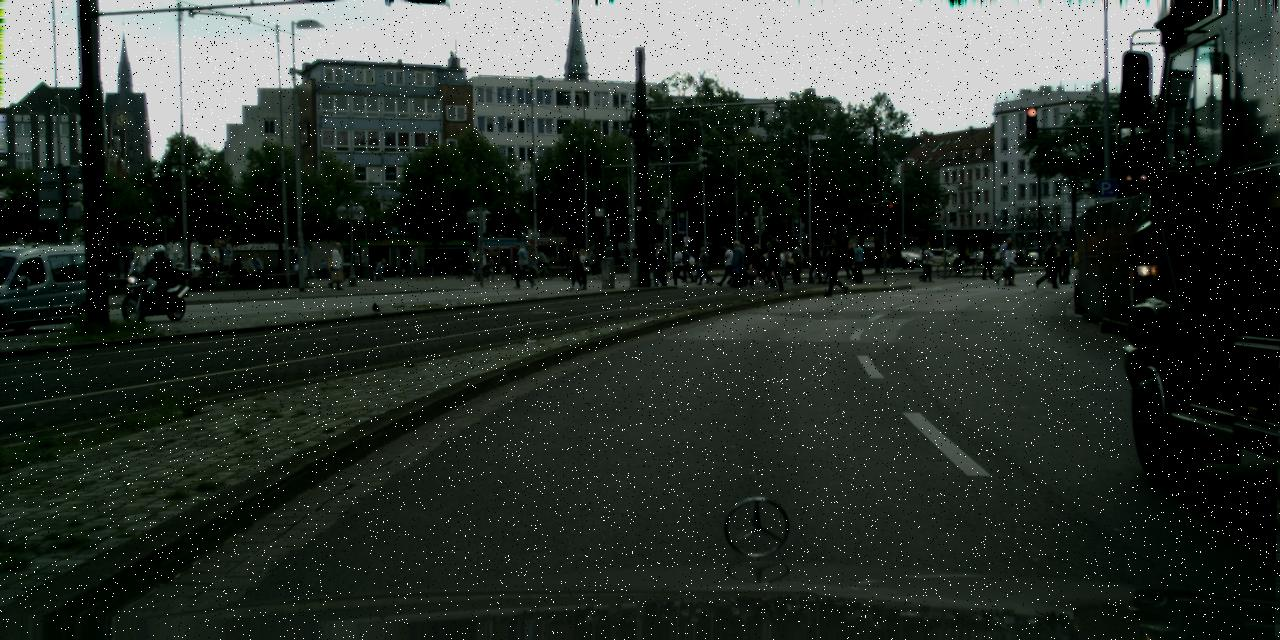ped: (144, 243, 172, 312), (762, 230, 786, 290), (824, 236, 848, 296), (727, 238, 746, 288), (326, 241, 345, 288), (1040, 240, 1059, 286), (996, 236, 1014, 283), (513, 243, 531, 287), (649, 242, 667, 286), (761, 240, 779, 284), (198, 246, 216, 290), (851, 240, 868, 282), (718, 243, 735, 285), (749, 242, 766, 284), (1001, 243, 1018, 285), (654, 242, 670, 286), (917, 240, 933, 282), (574, 248, 590, 288), (1058, 242, 1074, 282), (670, 245, 686, 285), (734, 244, 750, 284), (805, 242, 821, 281), (1048, 246, 1064, 284), (843, 240, 859, 278), (788, 246, 804, 284), (696, 245, 711, 284), (568, 250, 583, 288), (919, 244, 934, 280), (679, 245, 693, 282), (130, 254, 144, 290), (981, 242, 995, 278), (780, 245, 794, 281), (693, 247, 707, 282), (812, 247, 826, 282), (821, 247, 835, 282), (375, 258, 387, 288), (952, 241, 964, 271), (568, 245, 578, 272), (586, 247, 596, 272), (536, 248, 545, 272), (369, 262, 378, 285), (445, 256, 453, 276), (320, 258, 327, 277), (411, 258, 418, 274)
